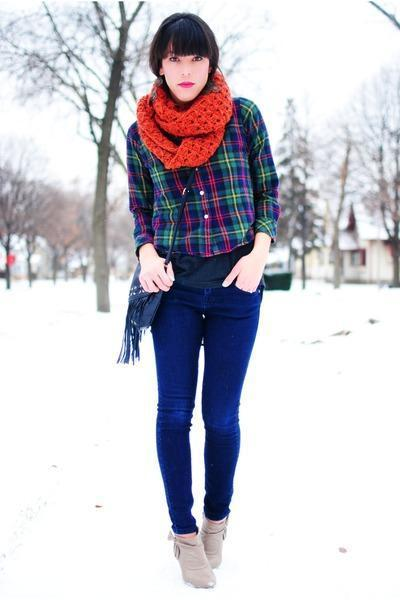bag: (117, 276, 162, 365)
pants: (149, 238, 262, 533)
shirt: (125, 97, 286, 264)
shoe: (168, 506, 227, 588)
